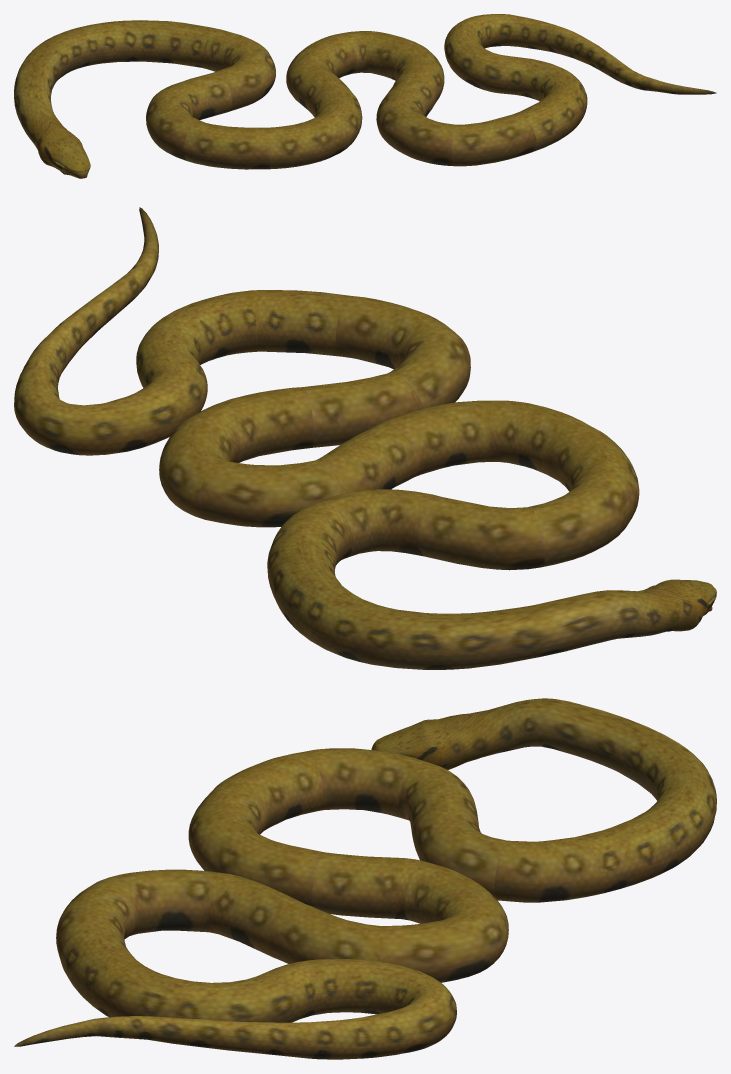
Rendered from anaconda.glb.
3 renders of one model, top to bottom at view 1: azimuth 30°, elevation 25°; view 2: azimuth 150°, elevation 25°; view 3: azimuth 270°, elevation 25°, orthographic. The views are drawn at different scales.
Parts seen in each view (by area): view 1: Object_2; view 2: Object_2; view 3: Object_2.
Part boxes in pixels (<box>): Object_2: <box>14,14,716,178</box>; Object_2: <box>14,207,716,669</box>; Object_2: <box>14,698,716,1059</box>.
Size of the model in its own units: 2.41 by 0.2435 by 1.91.
Materials: 1 (1 with a texture image).
